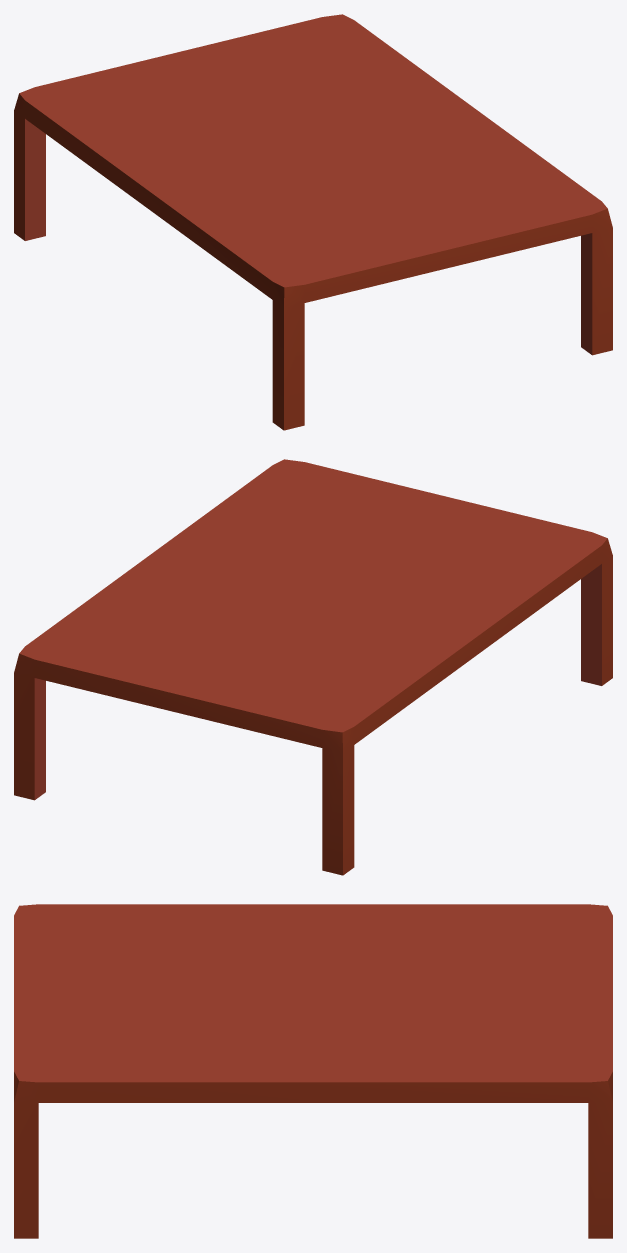
File: normal_table.glb
3 renders of one model, top to bottom at view 1: azimuth 30°, elevation 25°; view 2: azimuth 150°, elevation 25°; view 3: azimuth 270°, elevation 25°, orthographic. The views are drawn at different scales.
Parts seen in each view (by area): view 1: Cube; view 2: Cube; view 3: Cube.
Boxes of the visible parts, x1,y1,x2,y2 form: Cube: [14, 14, 612, 430]; Cube: [14, 459, 612, 875]; Cube: [14, 904, 612, 1238].
Bounding box in the file's own units: 1.12 × 0.4565 × 1.59.
